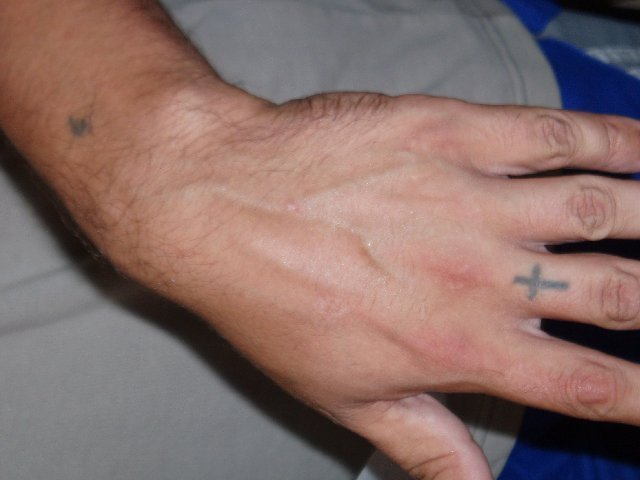tatu9_krest: (510, 260, 577, 310)
